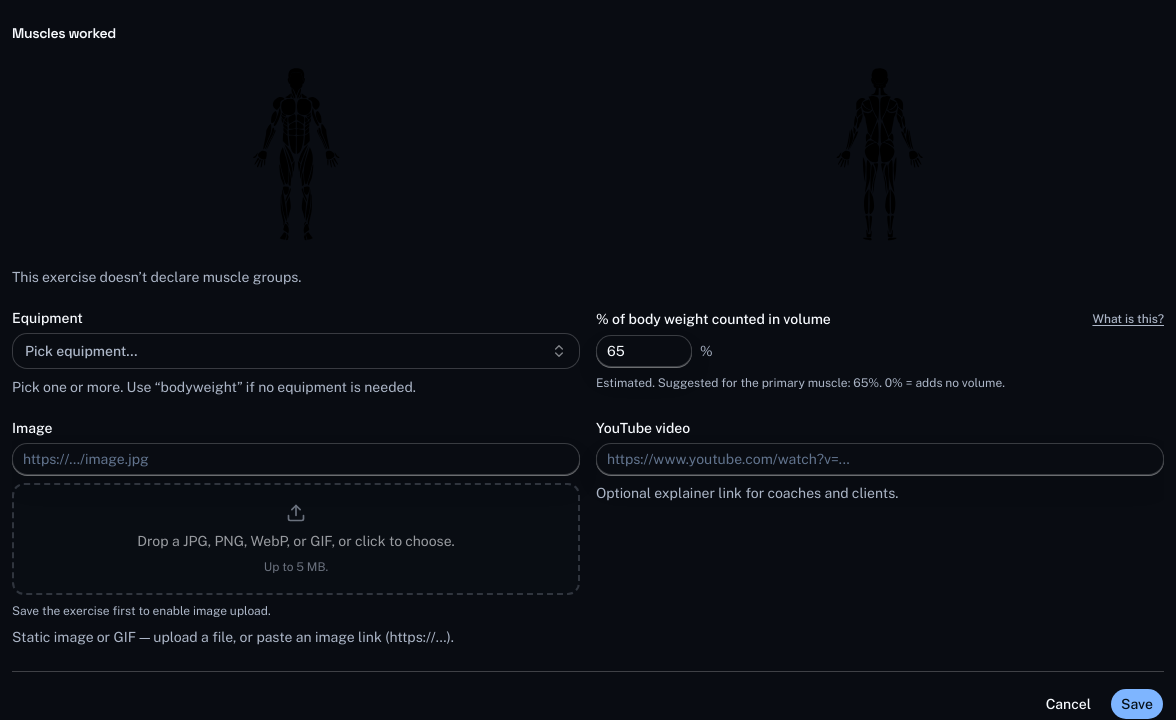
it: ExerciseForm — UI-SPEC verbatim validation copy › T2: submitting empty form surfaces UI-SPEC Zod error copy
(page scrolled)
Click the button "Save" at (1137, 704), box [1110,688,1164,719]
(page scrolled)
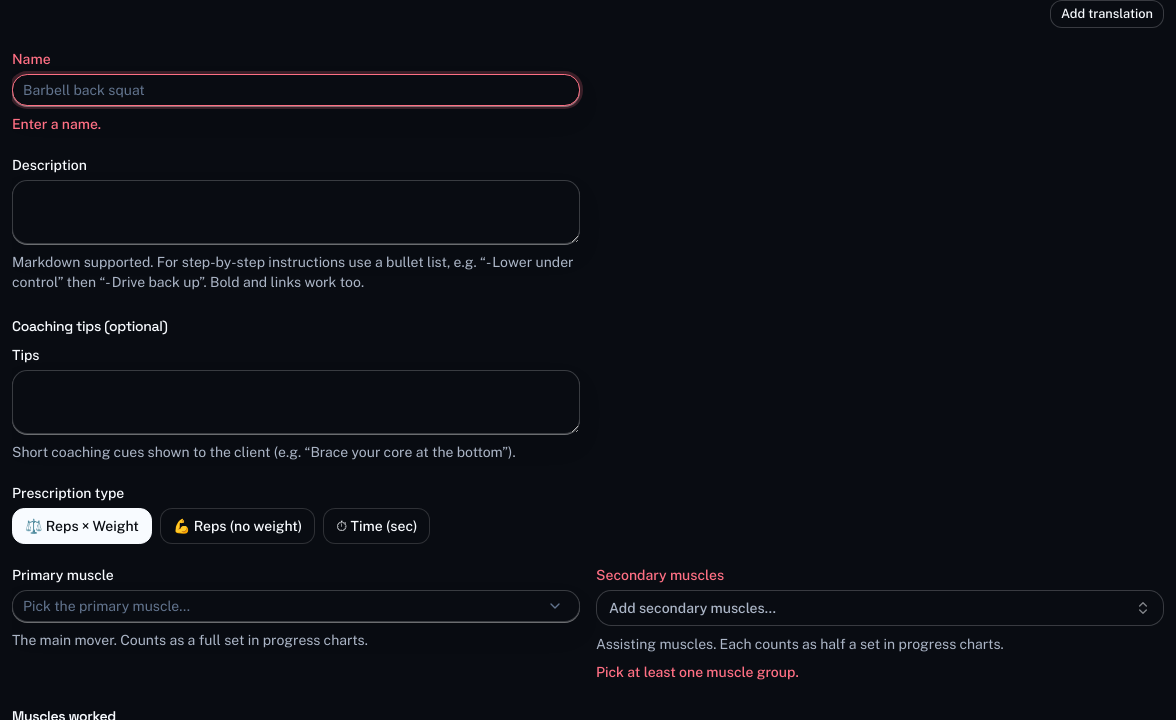
Result: the text "Enter a name." is shown at [12,116,101,132]
Result: the text "Pick at least one muscle group." is shown at [596,664,799,680]
